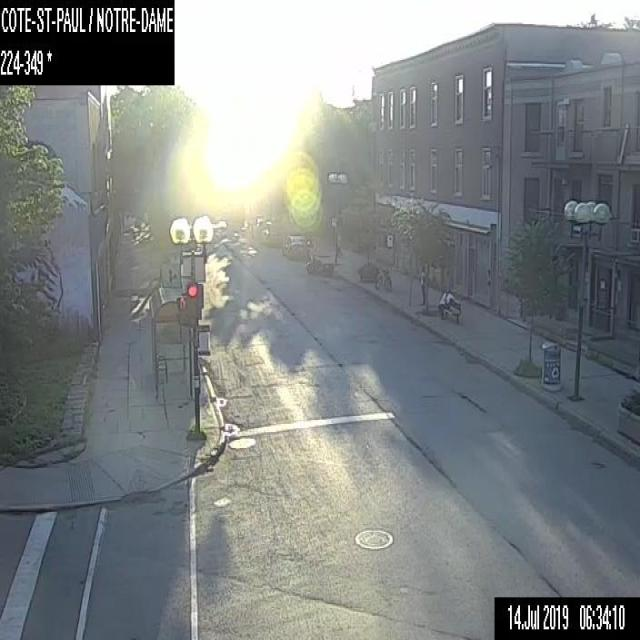pedestrian: (437, 286, 458, 320), (418, 264, 425, 304)
vehicle: (306, 254, 334, 277), (282, 234, 308, 258)
